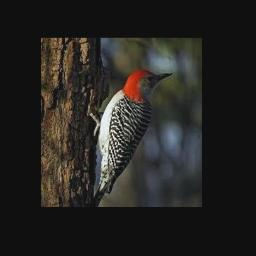Woodpecker: (91, 69, 172, 207)
